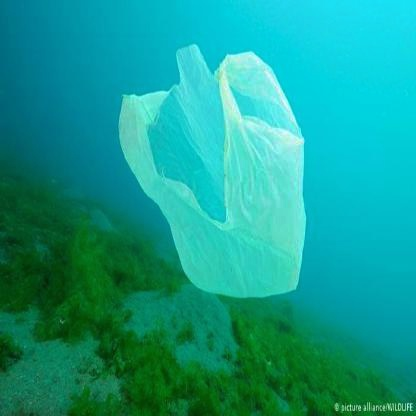pbag: (117, 40, 307, 302)
